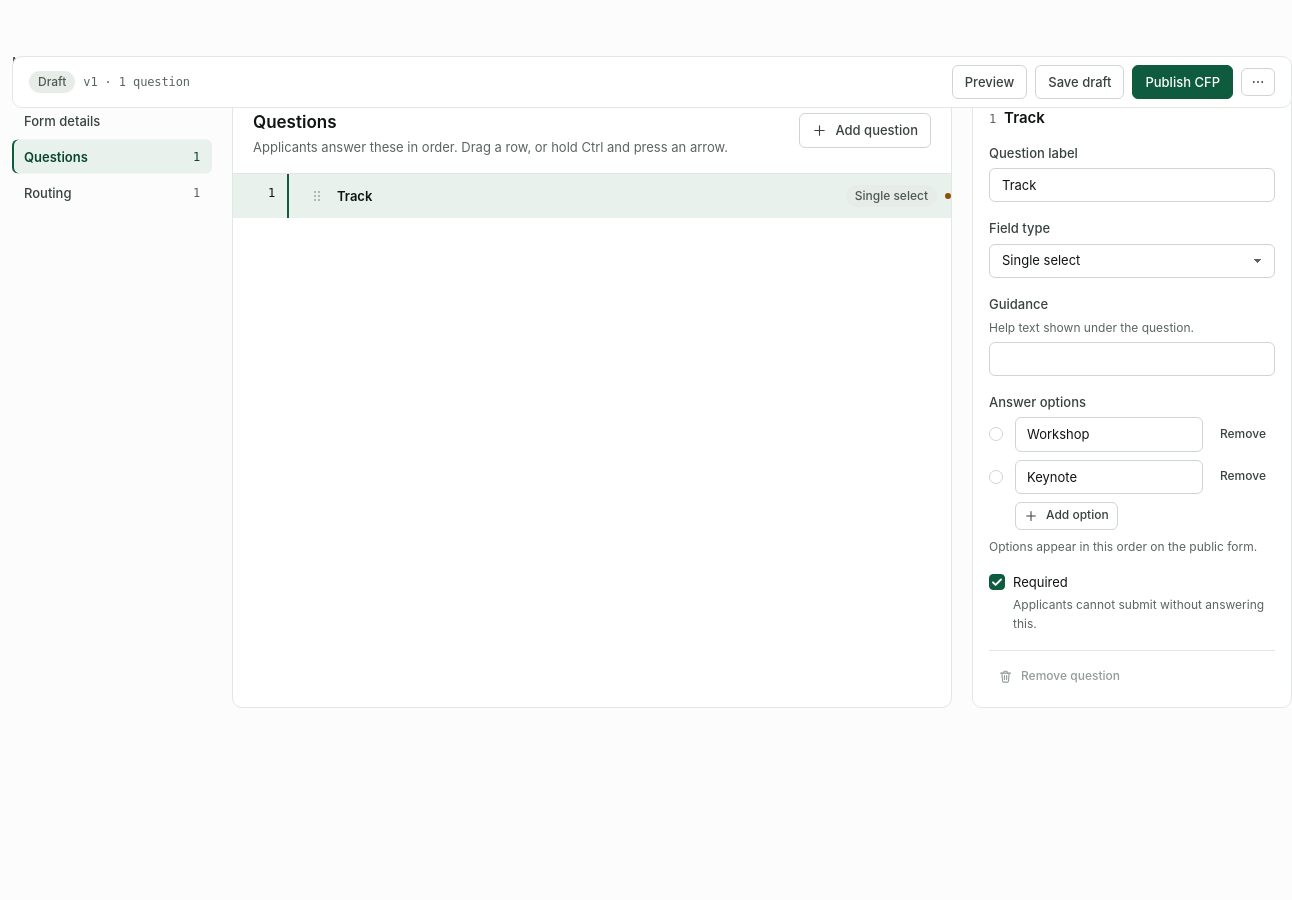
it: building the question list › says nothing about a rule's destination while it does not know which statuses exist
What coordinates should you click on to do the following:
click the button "Routing 1"
I would click on:
 (112, 193)
Its box is left=12, top=176, right=212, bottom=210.
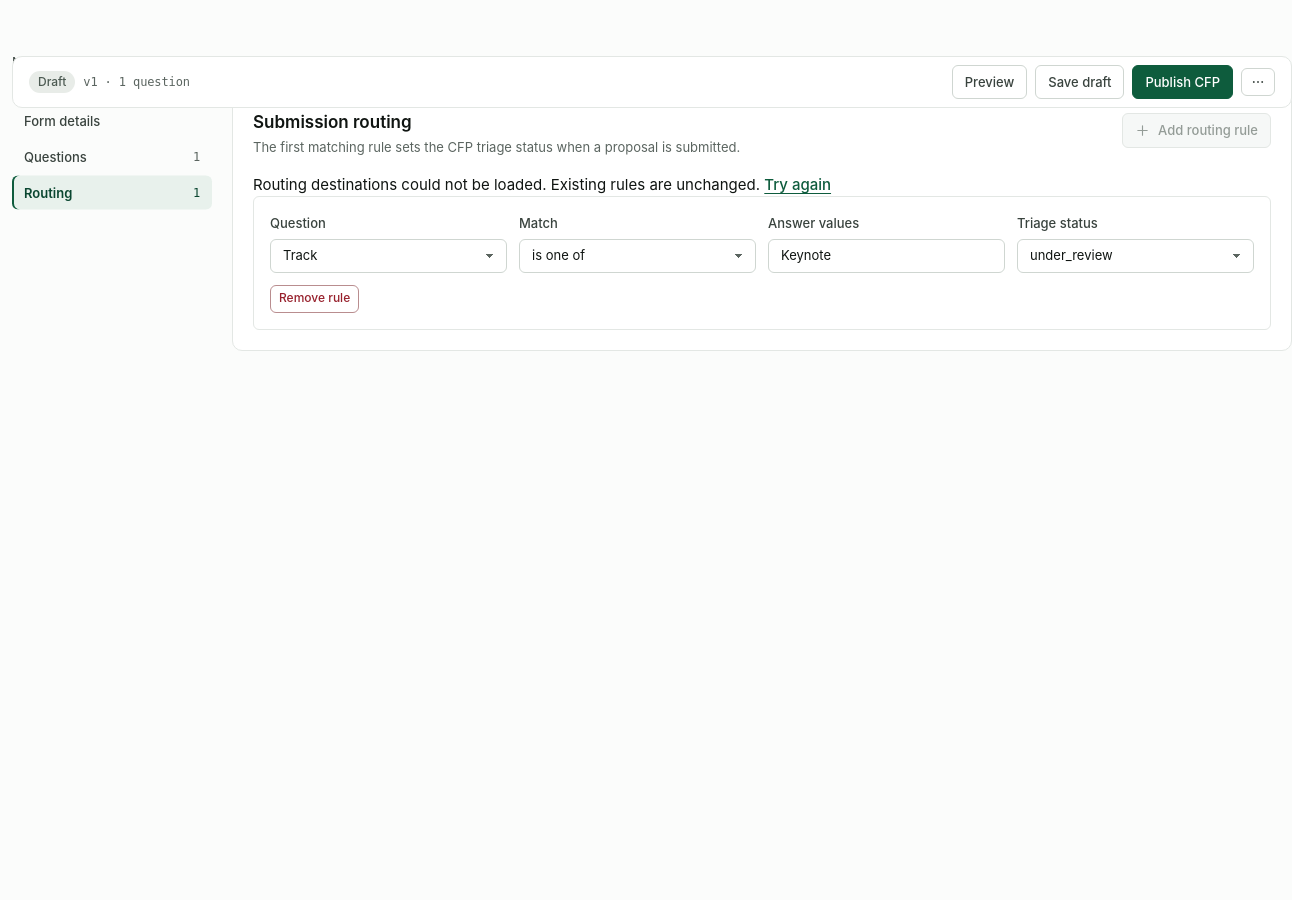
Now the dropdown labelled "Triage status" shows "under_review", box left=1017, top=238, right=1254, bottom=272
